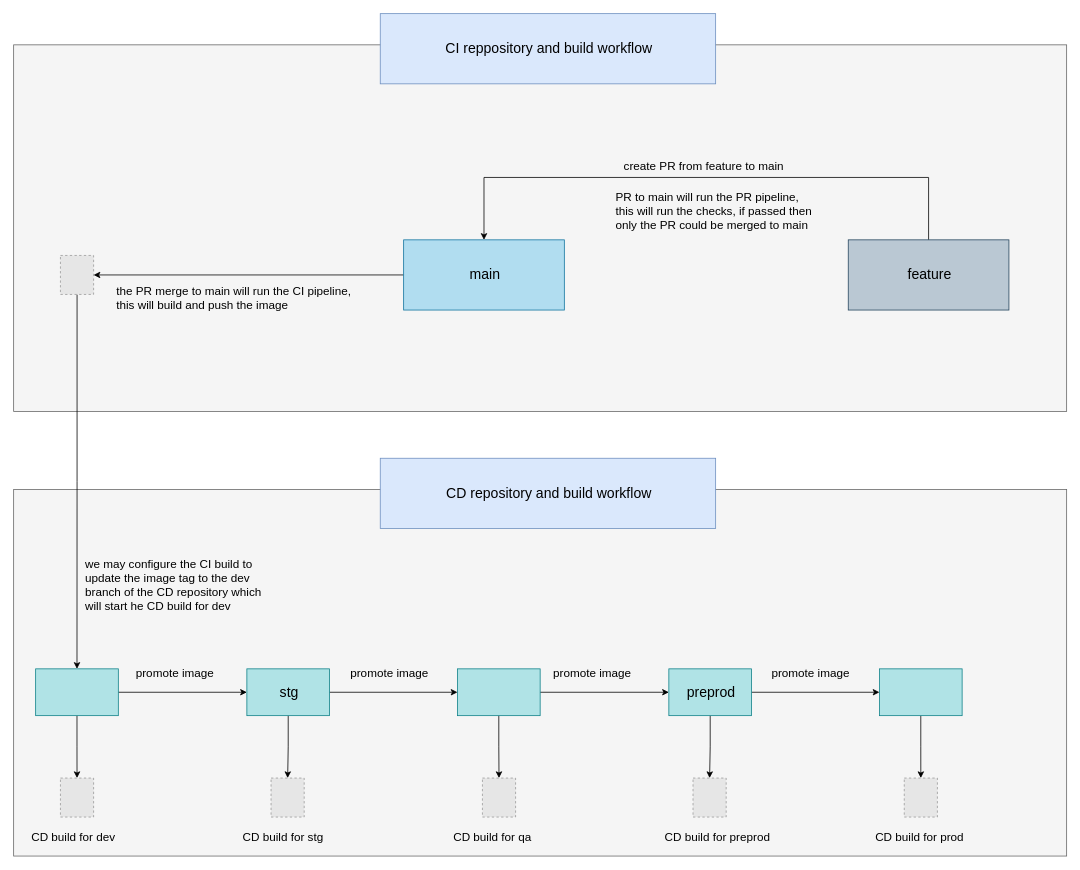
Image size: 1080x870. Some labels were removed from this diagram. Grey dashed boxes stand in for pictures. The centre of each missing label's shape, as x and y in pixels:
dev: [76,692]
prod: [920,692]
qa: [498,692]
